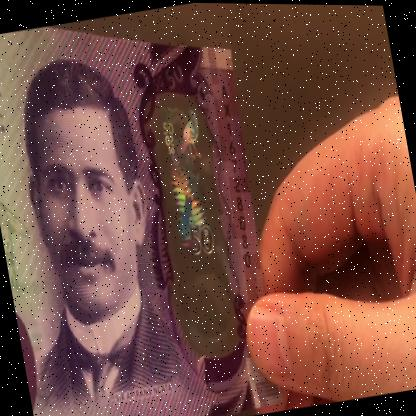50F: (152, 94, 235, 337)
